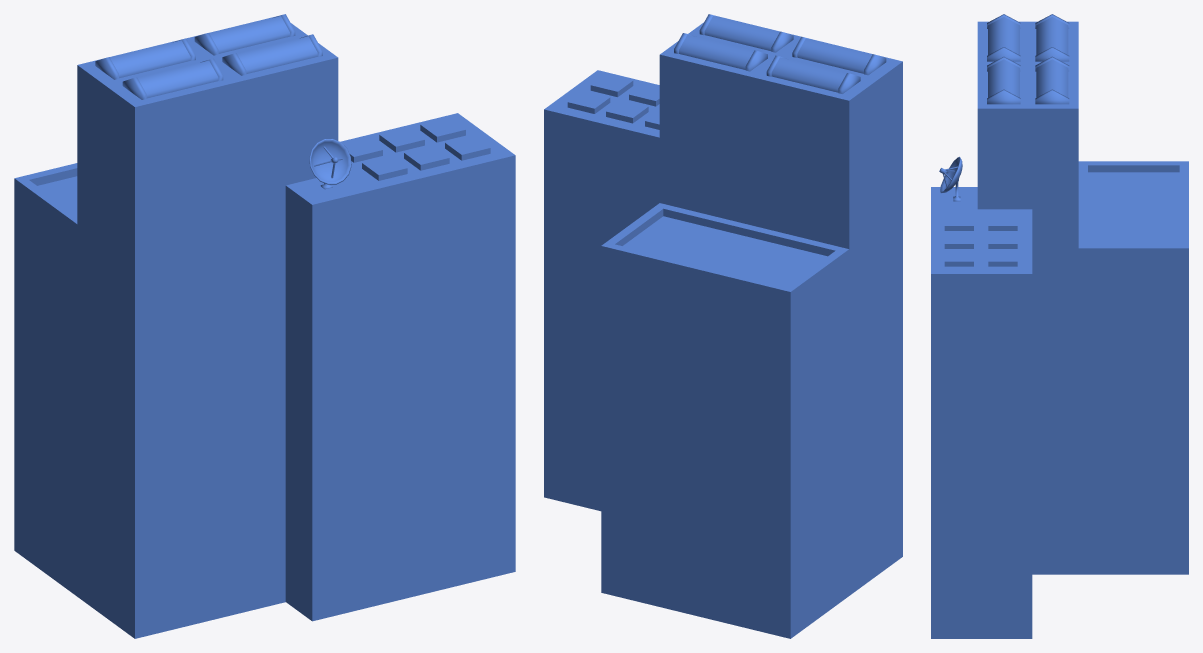
The model's file is Building6_blue.fbx.
The picture shows the model from 3 angles, left to right: view 1: azimuth 30°, elevation 25°; view 2: azimuth 150°, elevation 25°; view 3: azimuth 270°, elevation 25°; orthographic projection. The views are drawn at different scales.
Parts seen in each view (by area): view 1: Building 6; view 2: Building 6; view 3: Building 6.
Part boxes in pixels (x1,y1,x2,y2): Building 6: (14, 14, 515, 638); Building 6: (544, 14, 902, 638); Building 6: (931, 14, 1188, 638).
Bounding box in the file's own units: 2932 × 4323 × 2109.
Materials: 1 (1 with a texture image).
